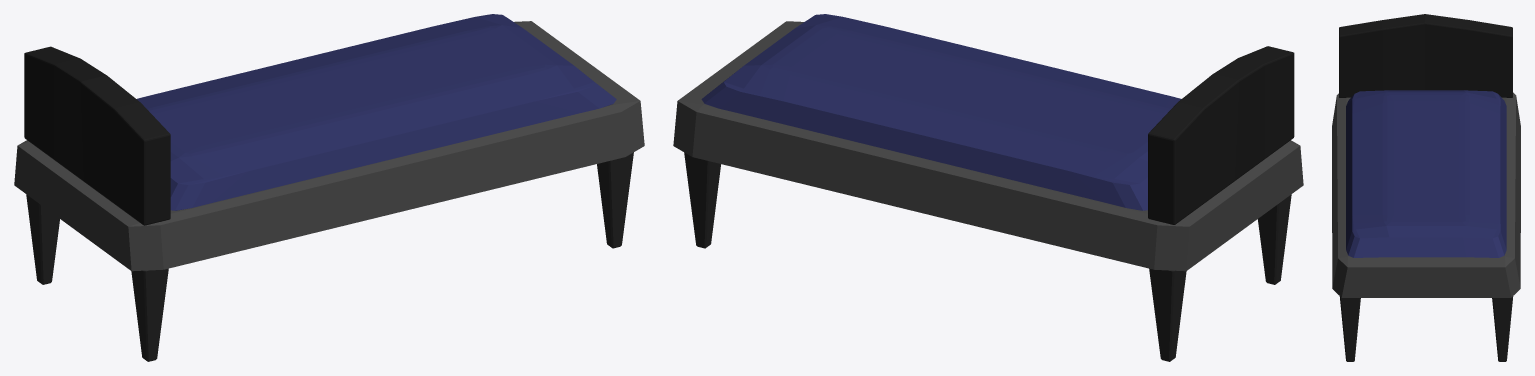
The model's file is singleBed.glb.
3 views of the same model, side by side, from view 1: azimuth 30°, elevation 25°; view 2: azimuth 150°, elevation 25°; view 3: azimuth 270°, elevation 25° (orthographic). The views are drawn at different scales.
Parts seen in each view (by area): view 1: Cube.003, Cube, Cube.002, Cube.001; view 2: Cube.003, Cube, Cube.002, Cube.001; view 3: Cube.003, Cube.002, Cube, Cube.001.
Boxes of the visible parts, x1,y1,x2,y2 form: Cube.003: [137, 14, 616, 210]; Cube: [14, 21, 644, 271]; Cube.002: [24, 46, 170, 225]; Cube.001: [26, 152, 633, 361]; Cube.003: [701, 14, 1181, 210]; Cube: [673, 21, 1303, 271]; Cube.002: [1148, 46, 1294, 224]; Cube.001: [684, 152, 1291, 361]; Cube.003: [1346, 90, 1506, 257]; Cube.002: [1339, 14, 1512, 97]; Cube: [1332, 92, 1520, 297]; Cube.001: [1339, 296, 1513, 361].
Size of the model in its own units: 7.97 by 3.63 by 3.51.
